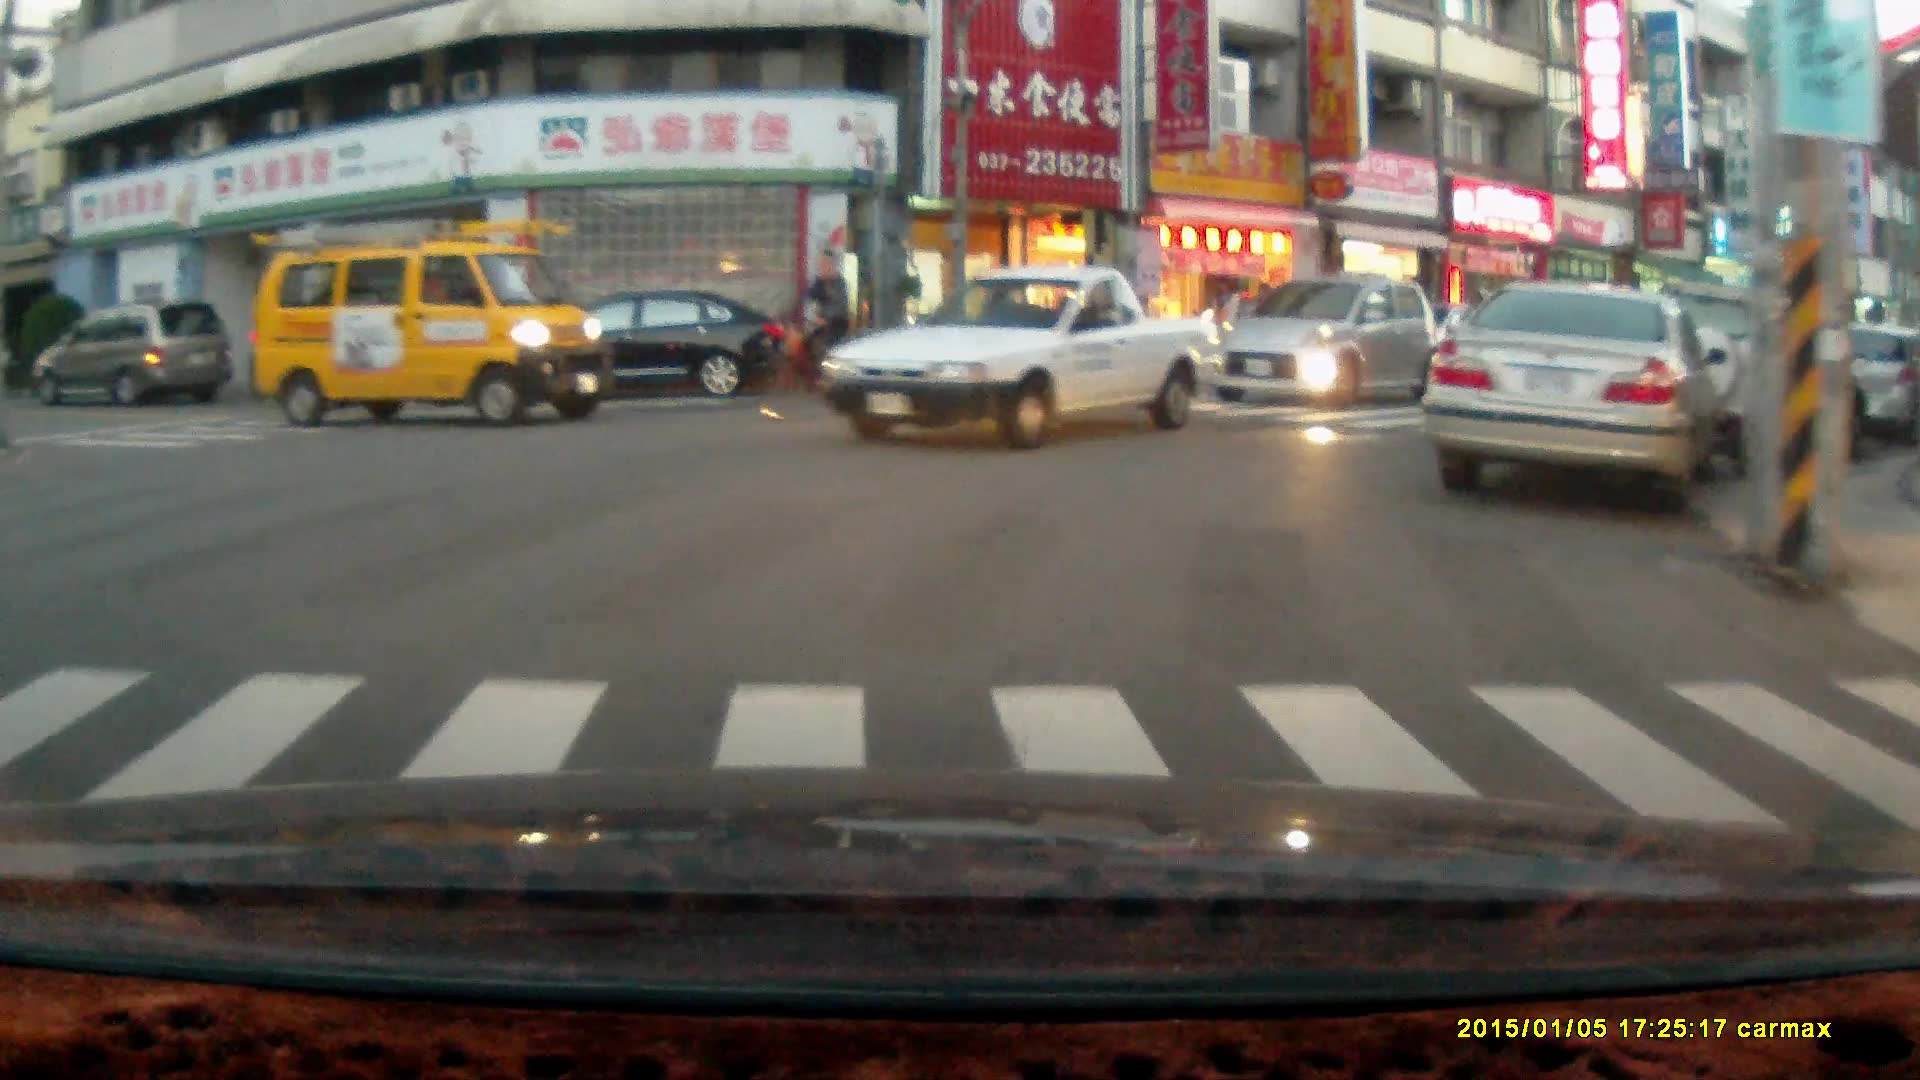pedestrian: (1208, 273, 1243, 368)
rider: (749, 247, 872, 419)
vehicle: (820, 266, 1227, 456), (244, 221, 612, 429), (1428, 279, 1727, 521), (1603, 291, 1875, 478), (503, 288, 795, 410), (1211, 275, 1442, 413), (33, 299, 231, 412)
